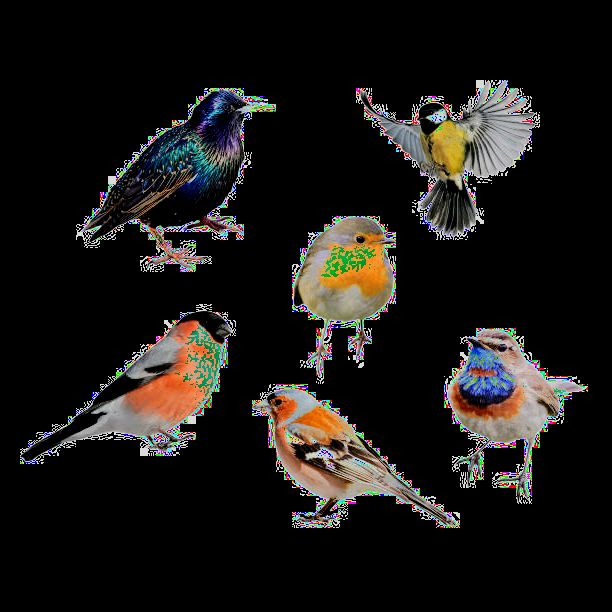Bird: (64, 84, 283, 281), (243, 374, 466, 546), (341, 66, 546, 250), (13, 304, 237, 472), (432, 324, 586, 512), (288, 211, 405, 385)
